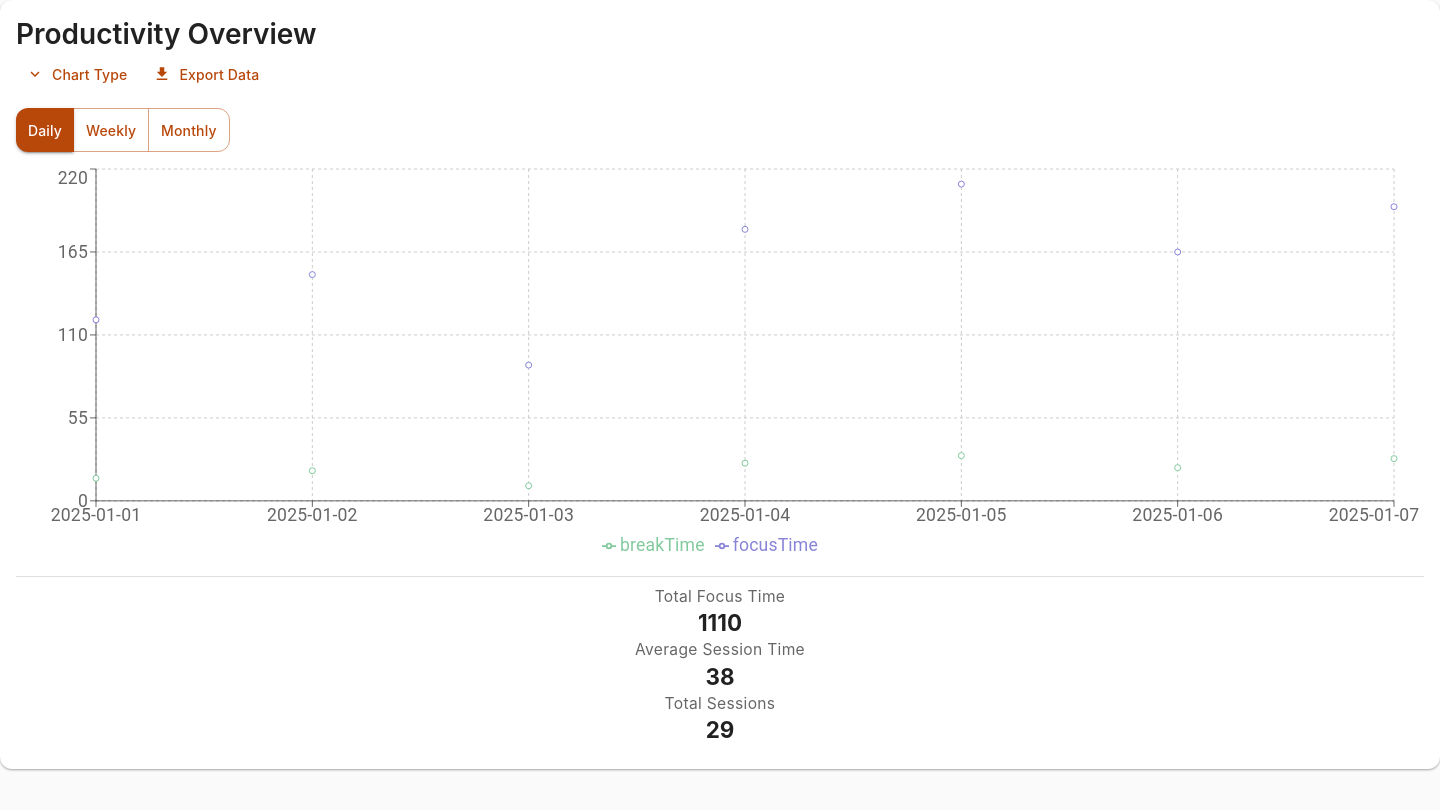
Scenario: ProductivityChart › Interactive Features › should support chart type toggle
Click the button "Chart Type" at {"x": 78, "y": 74}, box [16,52,139,96]
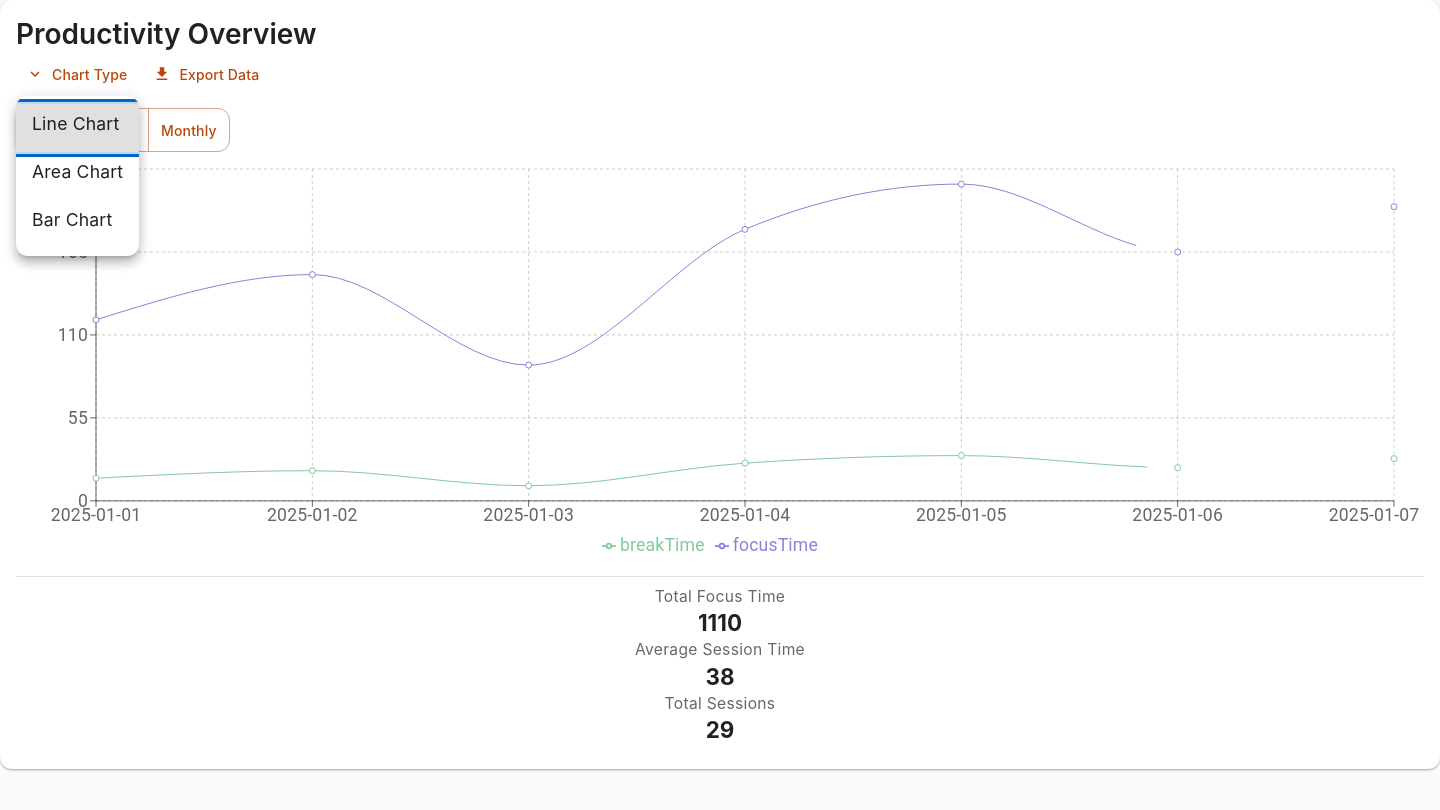
Expected: the menu item "Line Chart" is shown, [16,104,139,152]
Expected: the menu item "Area Chart" is shown, [32,161,123,182]
Expected: the menu item "Bar Chart" is shown, [32,209,112,230]
